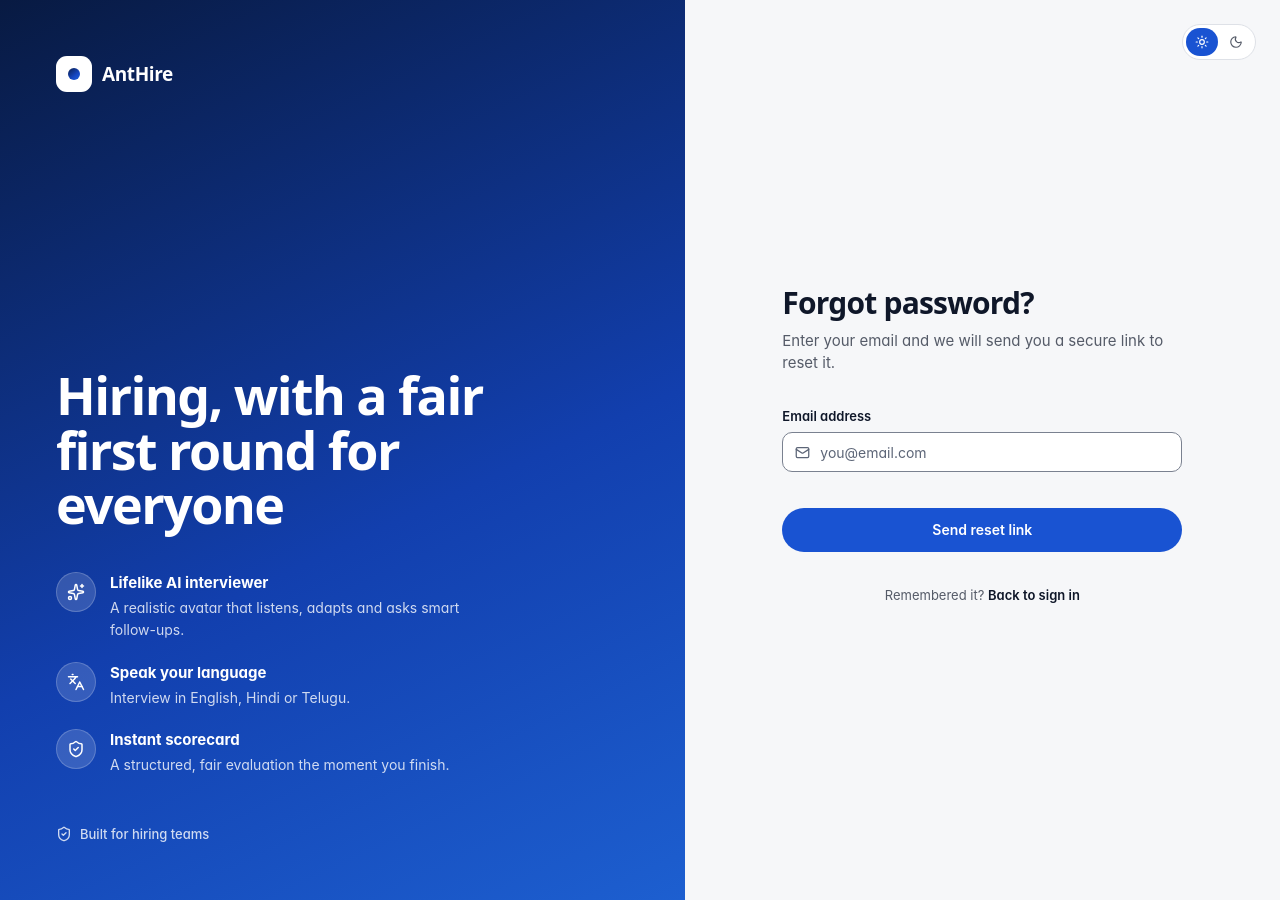
it: ForgotPassword › confirms without revealing whether the account exists
This screenshot has width=1280, height=900.
Type "nobody@example.com" into the field labelled "Email address" at x=995, y=452, box [820,442,1169,462]
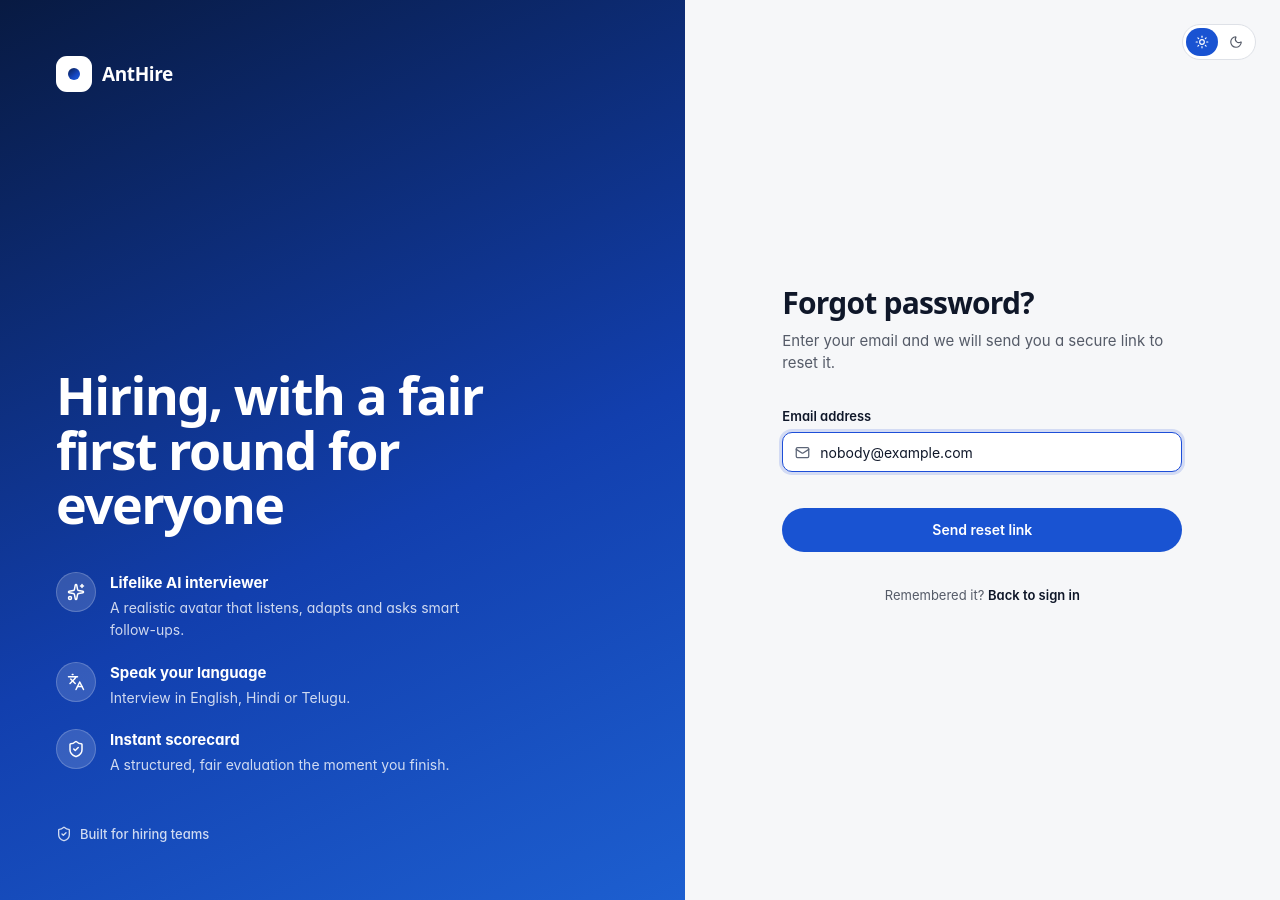
Click the button "Send reset link" at x=982, y=530, box [782,508,1182,552]
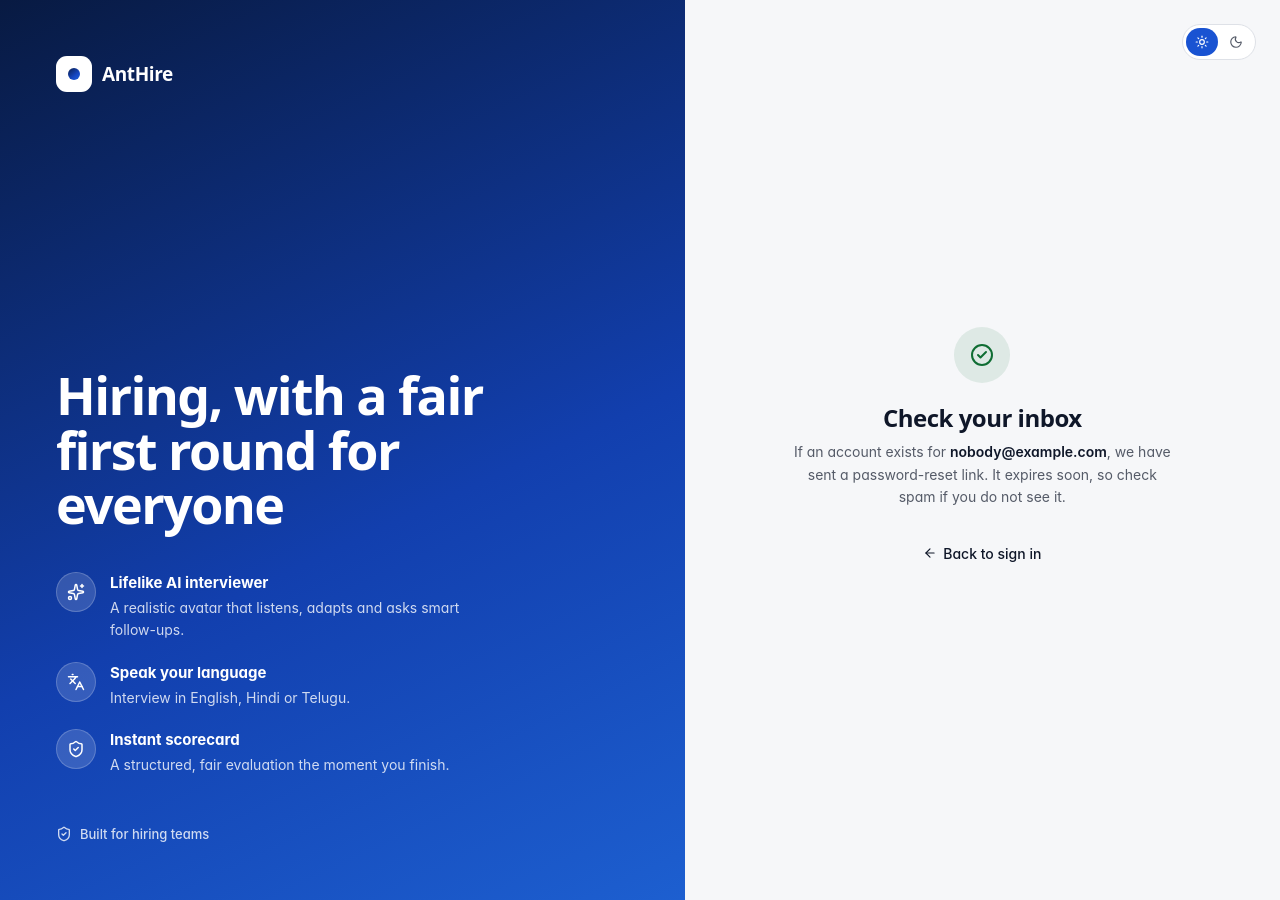
Expected: the heading "Check your inbox" is shown, [883,403,1082,433]
Expected: the text "If an account exists" is shown, [794,443,950,460]
